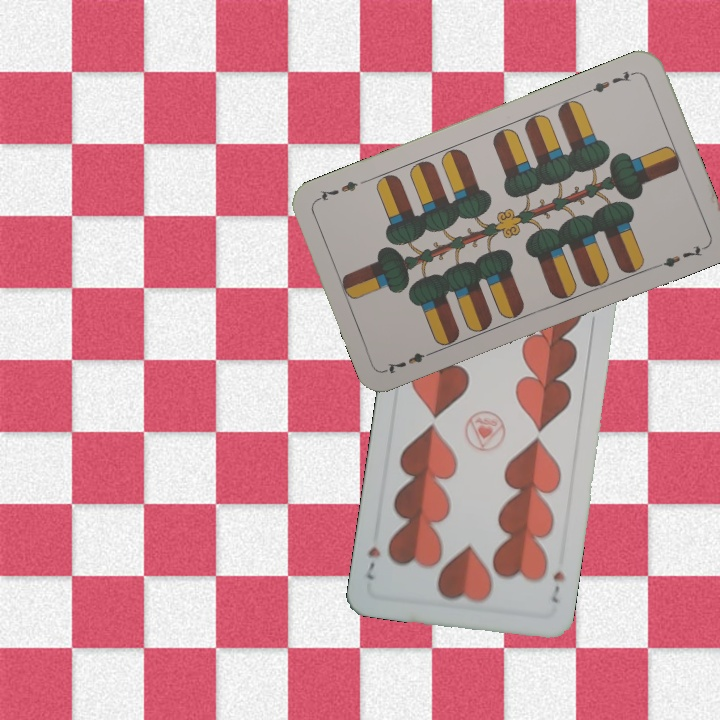E7: (381, 346, 439, 377), (583, 66, 639, 96)
H7: (547, 567, 567, 606)
